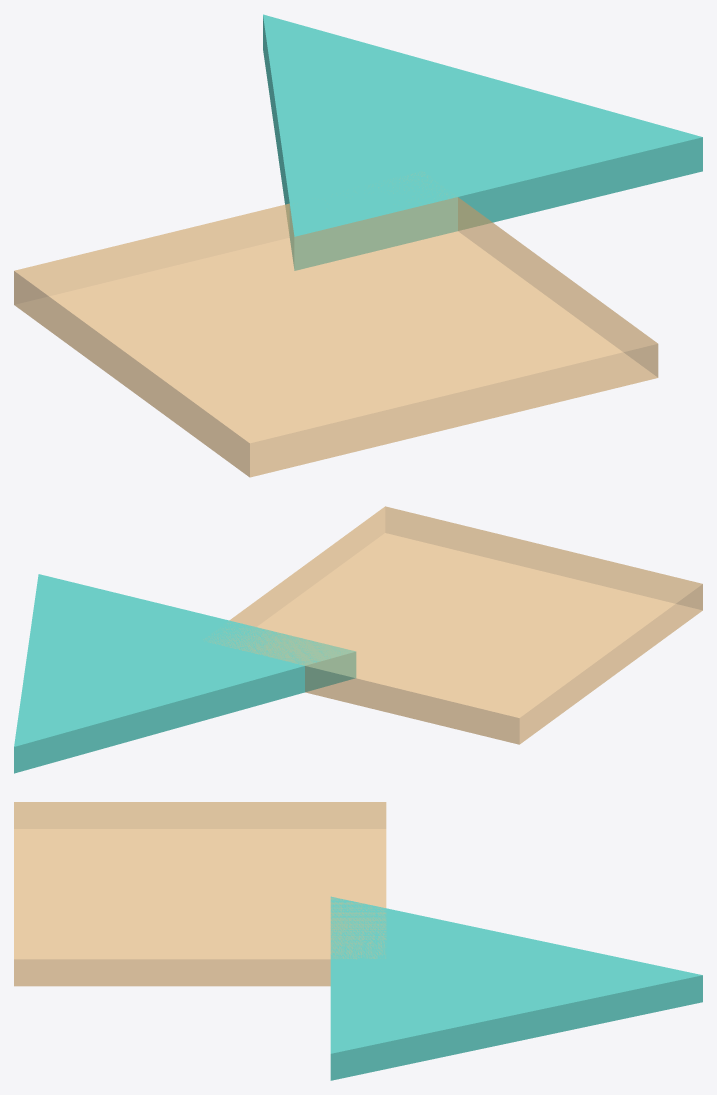
Rendered from uccello_step3.glb.
3 views of the same model, one above another, from view 1: azimuth 30°, elevation 25°; view 2: azimuth 150°, elevation 25°; view 3: azimuth 270°, elevation 25° (orthographic). The views are drawn at different scales.
Parts seen in each view (by area): view 1: quadrato_piccolo, triangolo_isoscele_piccolo; view 2: quadrato_piccolo, triangolo_isoscele_piccolo; view 3: quadrato_piccolo, triangolo_isoscele_piccolo.
Boxes of the visible parts, <box> form: quadrato_piccolo: <box>14,173,658,477</box>; triangolo_isoscele_piccolo: <box>263,14,702,270</box>; quadrato_piccolo: <box>203,506,702,744</box>; triangolo_isoscele_piccolo: <box>14,574,356,773</box>; quadrato_piccolo: <box>14,802,386,986</box>; triangolo_isoscele_piccolo: <box>330,896,702,1080</box>.
Size of the model in its own units: 1.6 by 0.08 by 1.85.
